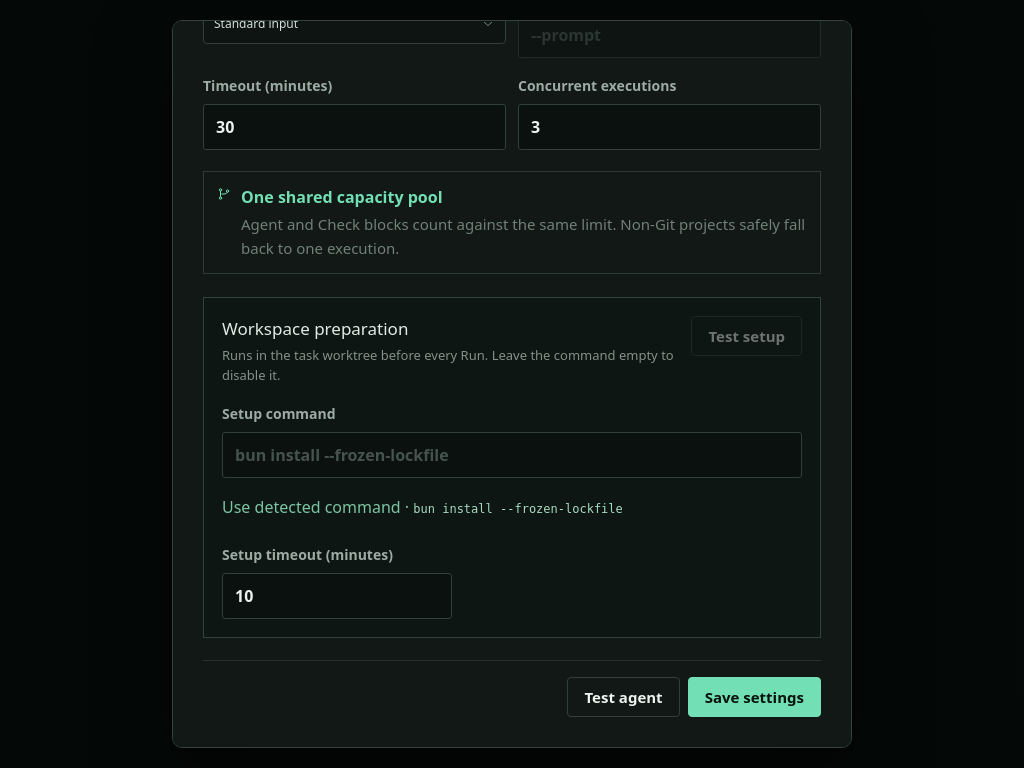
SettingsPanel workspace preparation › shows command output when the temporary worktree test fails
(page scrolled)
Click the button "Use detected command · bun install --frozen-lockfile" at (512, 507), box x1=222 y1=487 x2=802 y2=527
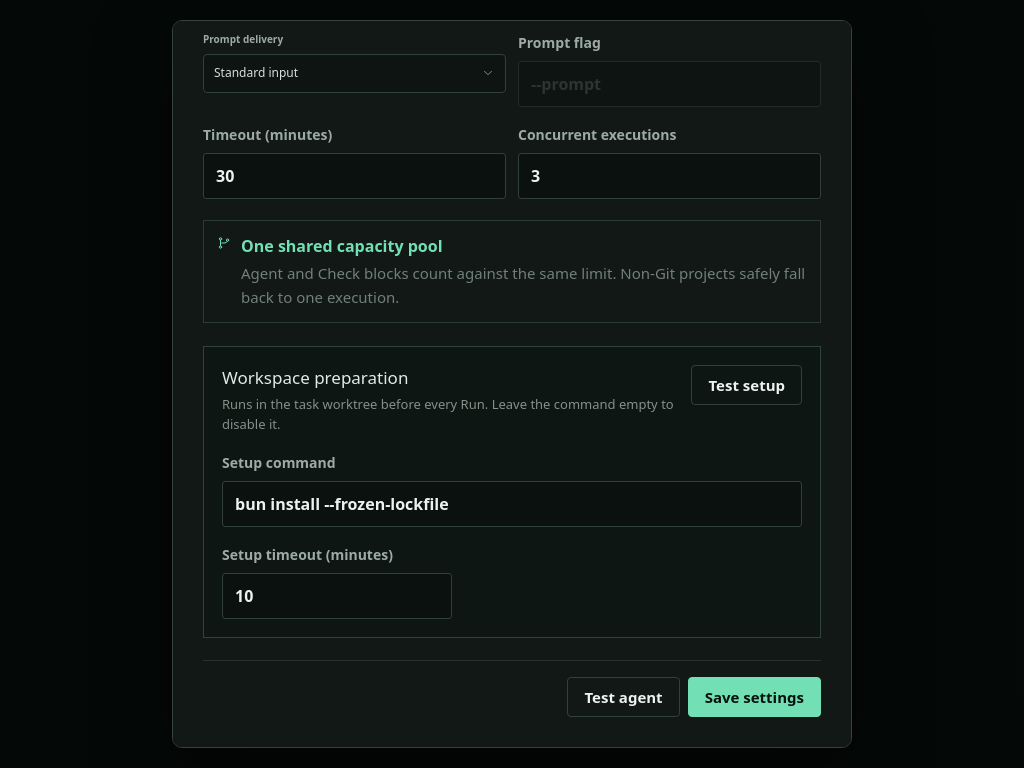
Click the button "Test setup" at (747, 385), box x1=692 y1=365 x2=802 y2=405
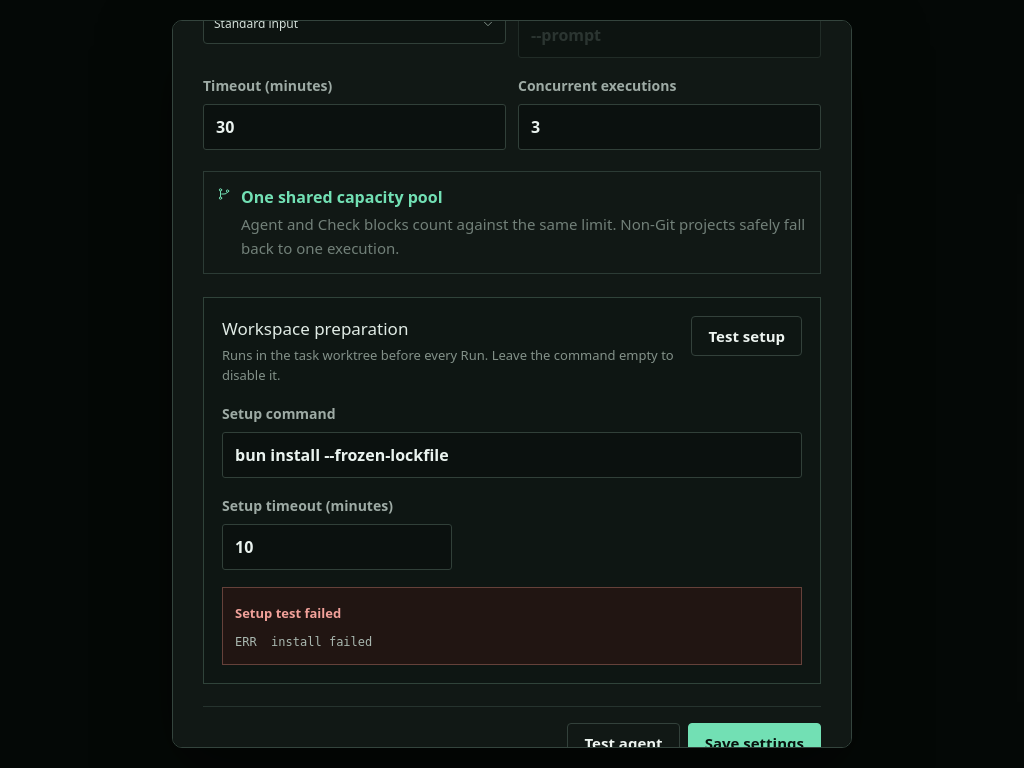
Check: the text "Setup test failed" is shown, box x1=235 y1=604 x2=341 y2=622
Check: the text "ERR install failed" is shown, box x1=235 y1=635 x2=372 y2=649
